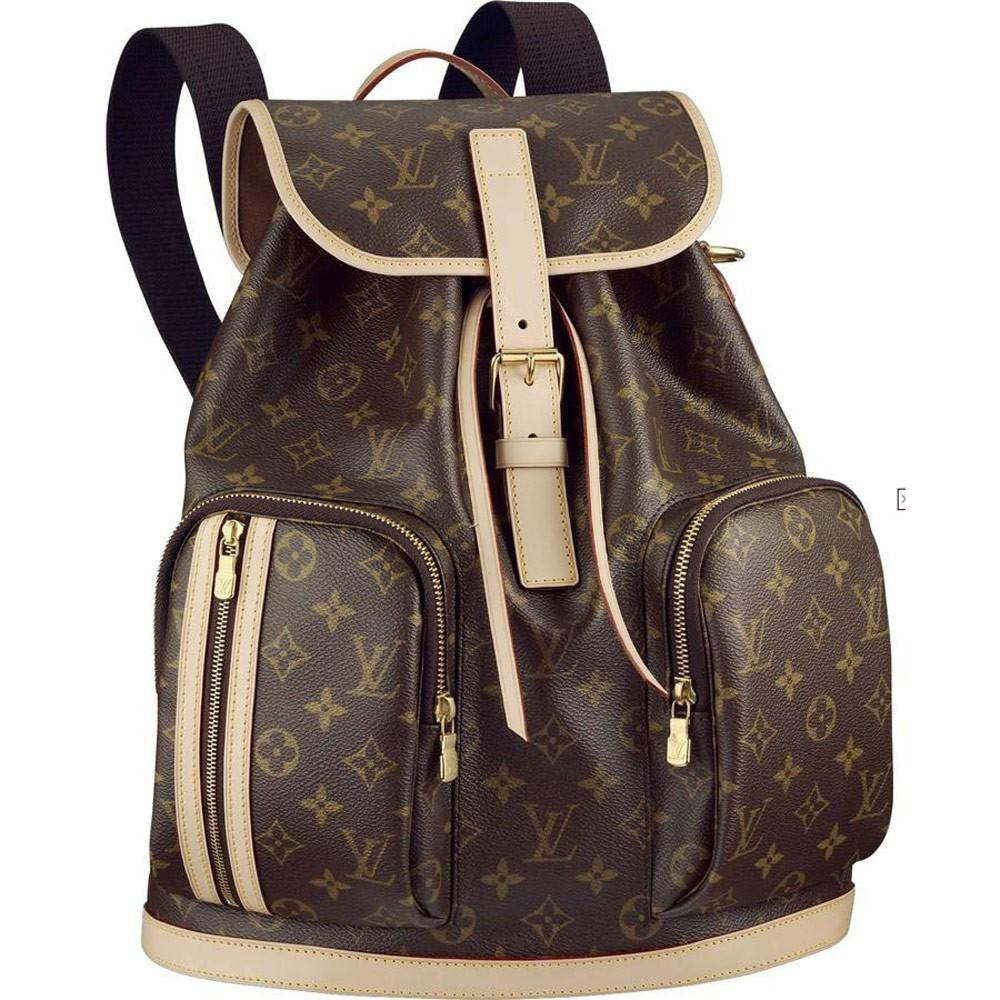LOUIS-VUITTON: (519, 613, 581, 681), (518, 798, 580, 865), (261, 234, 322, 302), (335, 824, 397, 888), (348, 631, 404, 700), (189, 400, 251, 462), (721, 395, 783, 453), (353, 422, 411, 483), (724, 796, 775, 864), (561, 134, 621, 188), (377, 139, 438, 191), (732, 605, 775, 677), (850, 577, 892, 644), (846, 765, 893, 821), (214, 575, 233, 596)
